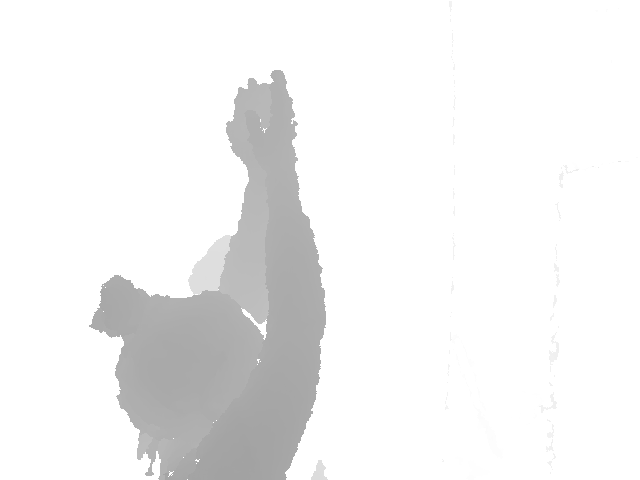hand: (226, 71, 298, 171)
head: (118, 292, 267, 449)
person: (89, 71, 328, 480)
